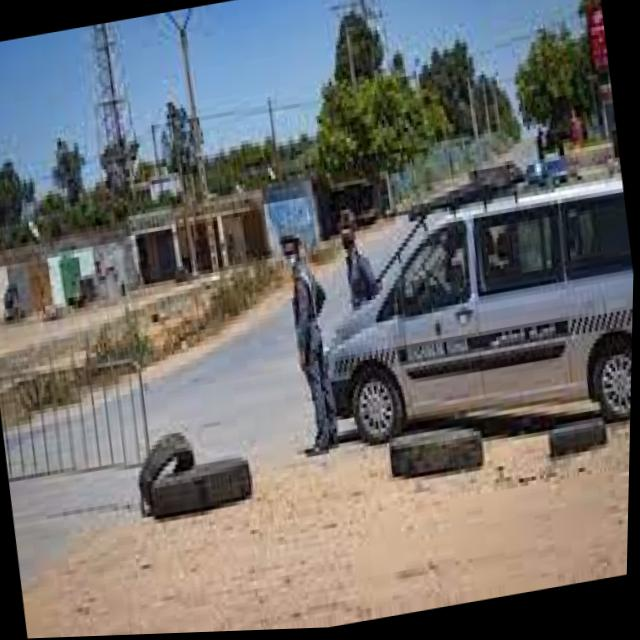gendarme car: (300, 157, 637, 476)
